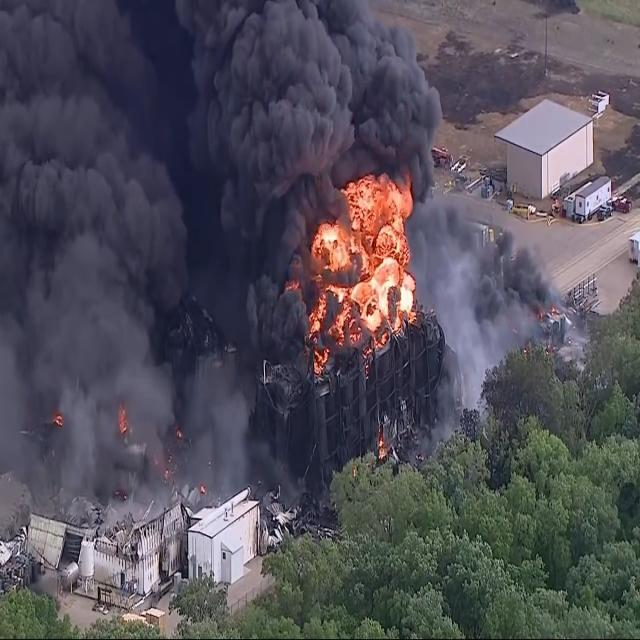Fire: (291, 174, 418, 372), (534, 302, 561, 334), (117, 402, 132, 439), (375, 432, 391, 457), (55, 408, 63, 431)
Smoke: (0, 0, 250, 498), (167, 0, 353, 379), (407, 196, 556, 384), (315, 0, 445, 197)
